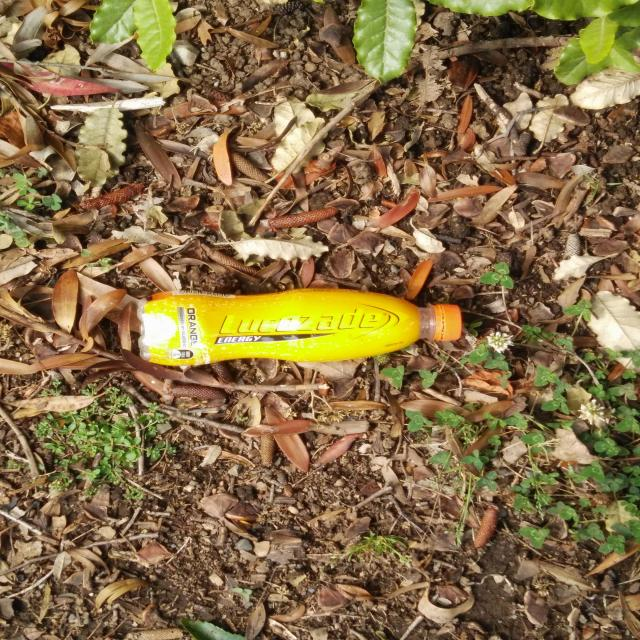Clear plastic bottle: (137, 288, 462, 366)
Plastic bottle cap: (440, 304, 462, 341)
